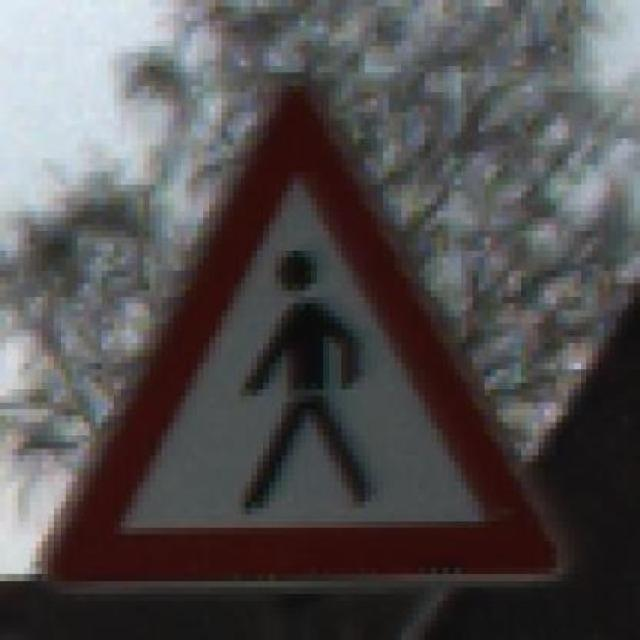Pedestrian Crossing: (30, 66, 575, 594)
